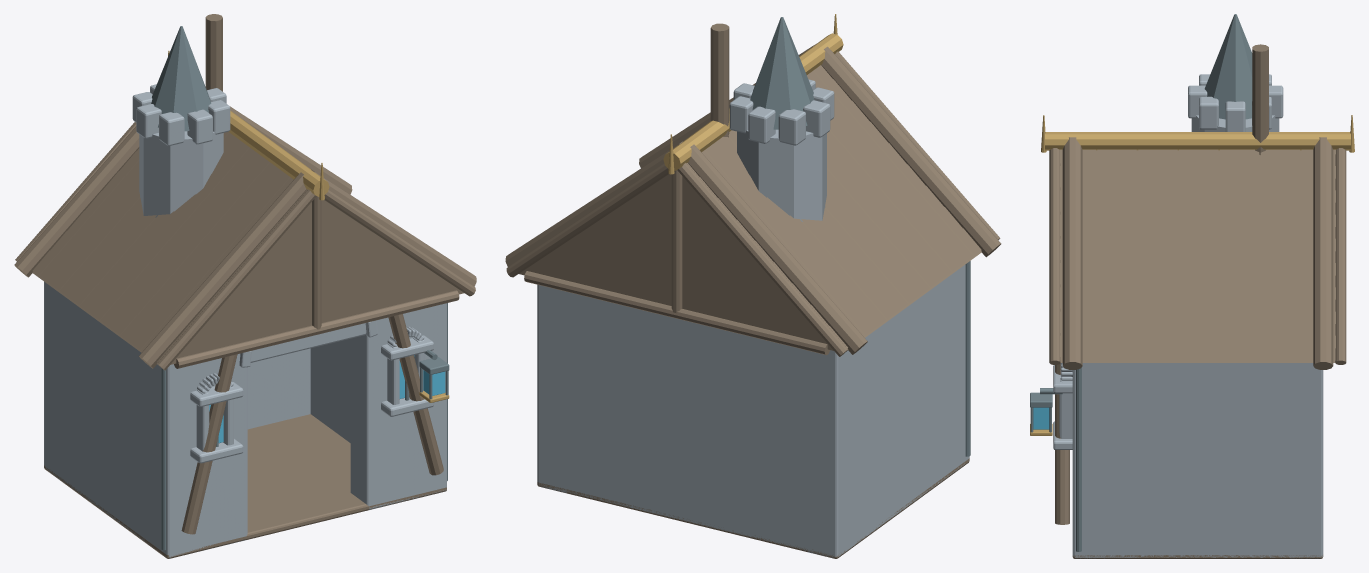
Rendered from a3_service_0.glb.
The picture shows the model from 3 angles, left to right: view 1: azimuth 30°, elevation 25°; view 2: azimuth 150°, elevation 25°; view 3: azimuth 270°, elevation 25°; orthographic projection. The views are drawn at different scales.
Visible parts, largest first — view 1: Roof.006, Front.006, Side.006, Body.015; view 2: Roof.006, Body.015, Side.006; view 3: Roof.006, Side.006, Body.015, Front.006.
Boxes of the visible parts, left/top/right/bottom form: Roof.006: left=14, top=14, right=476, bottom=370; Front.006: left=156, top=303, right=449, bottom=558; Side.006: left=44, top=283, right=447, bottom=557; Body.015: left=44, top=281, right=446, bottom=558; Roof.006: left=505, top=14, right=1001, bottom=356; Body.015: left=537, top=284, right=969, bottom=558; Side.006: left=538, top=261, right=970, bottom=558; Roof.006: left=1041, top=14, right=1354, bottom=369; Side.006: left=1072, top=363, right=1320, bottom=557; Body.015: left=1072, top=363, right=1323, bottom=558; Front.006: left=1030, top=363, right=1105, bottom=558.
Size of the model in its own units: 3.1 by 4 by 2.59.
